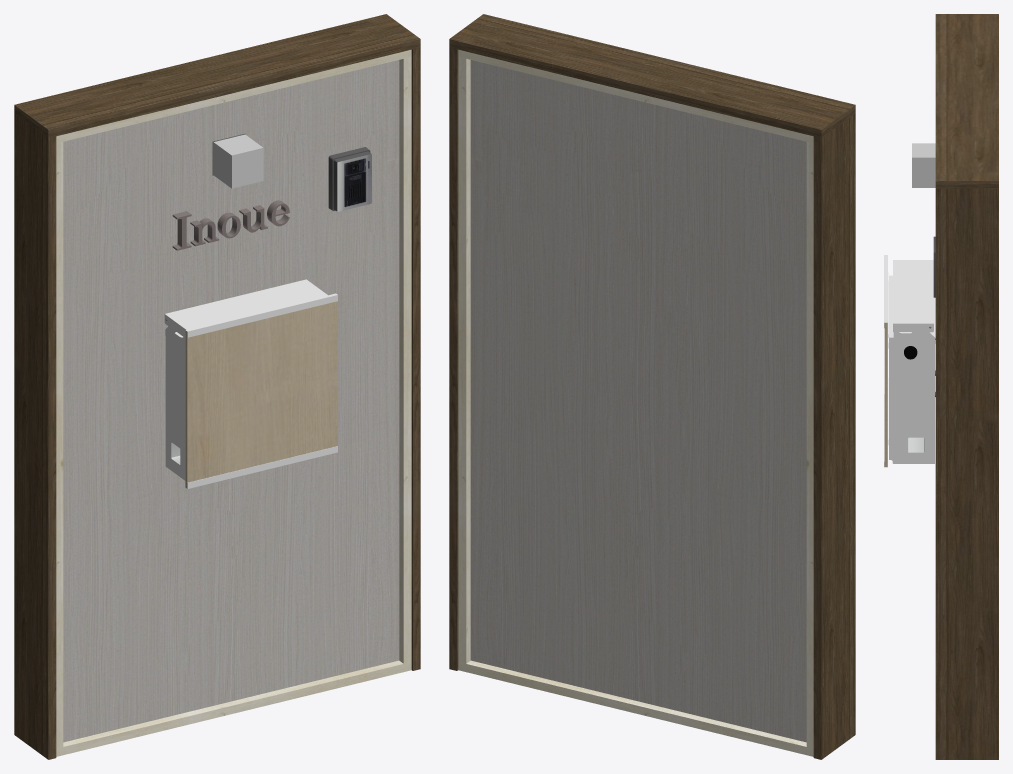
Rendered from eabmonchustyles1_greige.fbx.
3 views of the same model, side by side, from view 1: azimuth 30°, elevation 25°; view 2: azimuth 150°, elevation 25°; view 3: azimuth 270°, elevation 25° (orthographic). The views are drawn at different scales.
Visible parts, largest first — view 1: eabmonchustyles1-grayju; view 2: eabmonchustyles1-grayju; view 3: eabmonchustyles1-grayju.
Boxes of the visible parts, x1,y1,x2,y2 form: eabmonchustyles1-grayju: (14,14,420,759); eabmonchustyles1-grayju: (449,14,855,759); eabmonchustyles1-grayju: (884,14,998,759).
Bounding box in the file's own units: 94 × 152 × 27.3.
14 materials, 5 textured.
